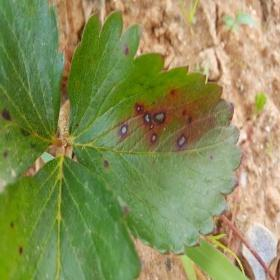Leaf Spot: (67, 10, 244, 256), (0, 154, 141, 279)
